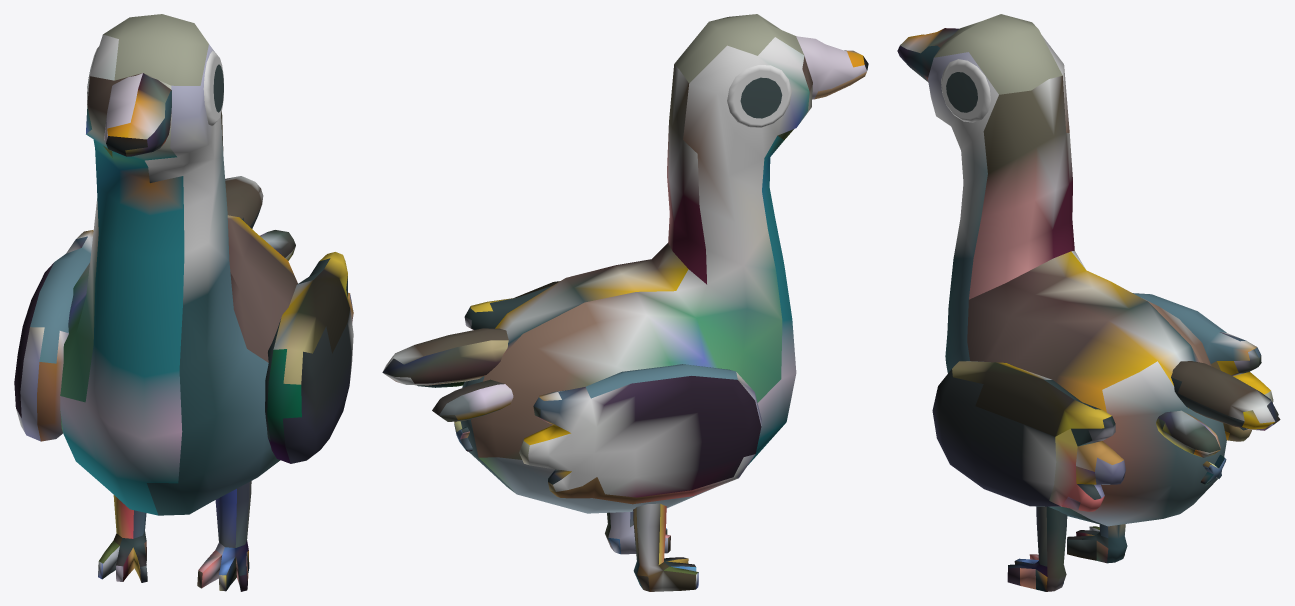
The model's file is Goose.glb.
3 views of the same model, side by side, from view 1: azimuth 30°, elevation 25°; view 2: azimuth 150°, elevation 25°; view 3: azimuth 270°, elevation 25° (orthographic). The views are drawn at different scales.
Parts seen in each view (by area): view 1: 62; view 2: 62; view 3: 62.
Part boxes in pixels (left/top/right/bottom): 62: left=14, top=14, right=353, bottom=591; 62: left=382, top=14, right=868, bottom=591; 62: left=897, top=14, right=1280, bottom=591.
Size of the model in its own units: 0.7005 by 1.11 by 0.7499.
